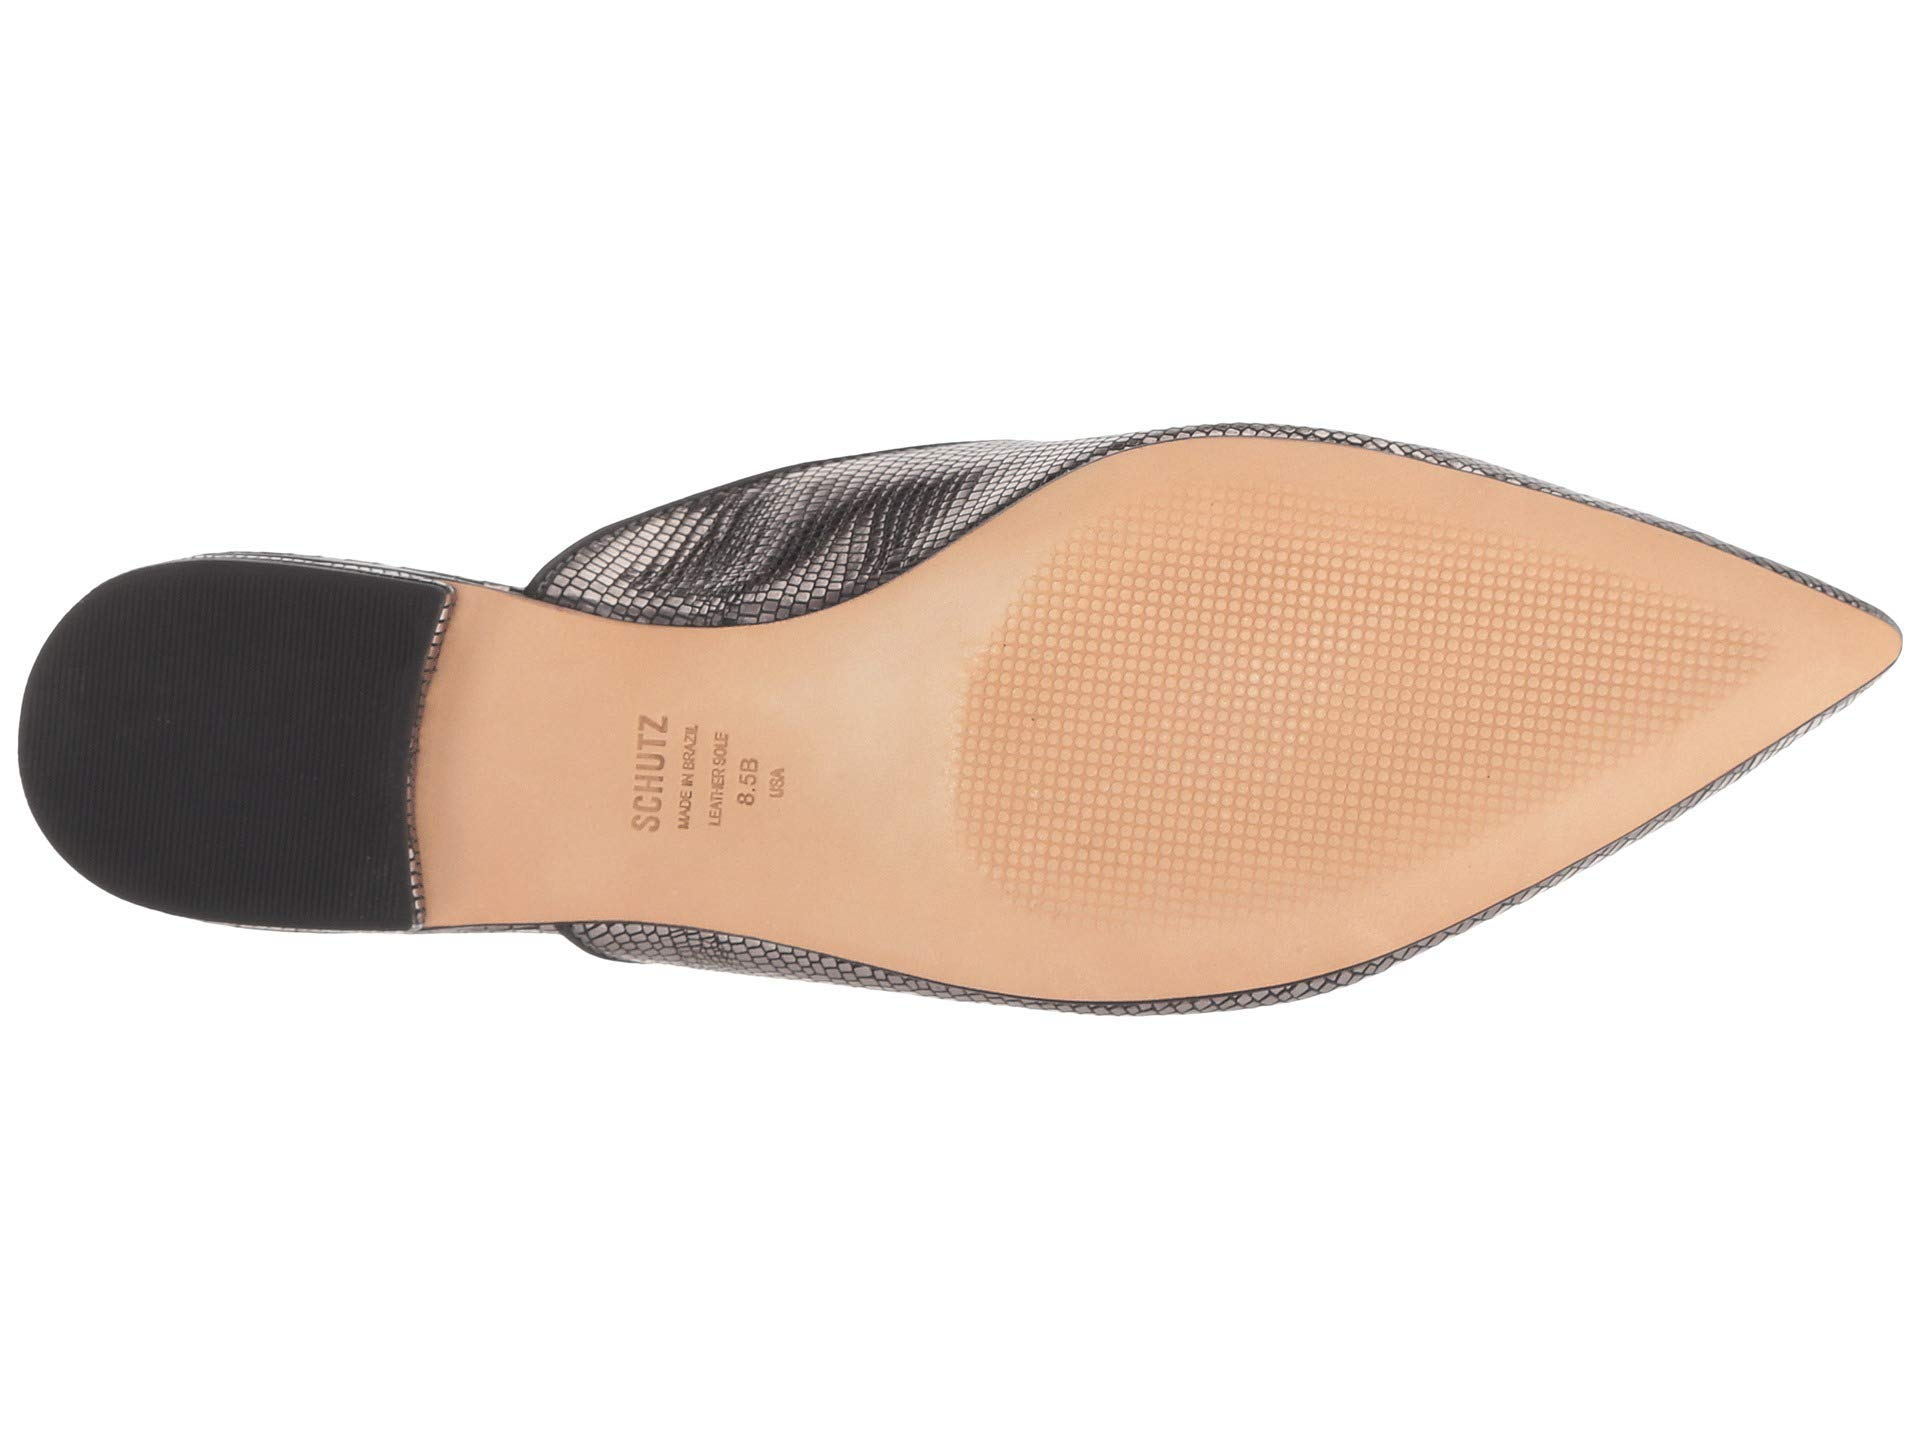quad: (1087, 510, 1515, 853)
text: (570, 678, 830, 908)
